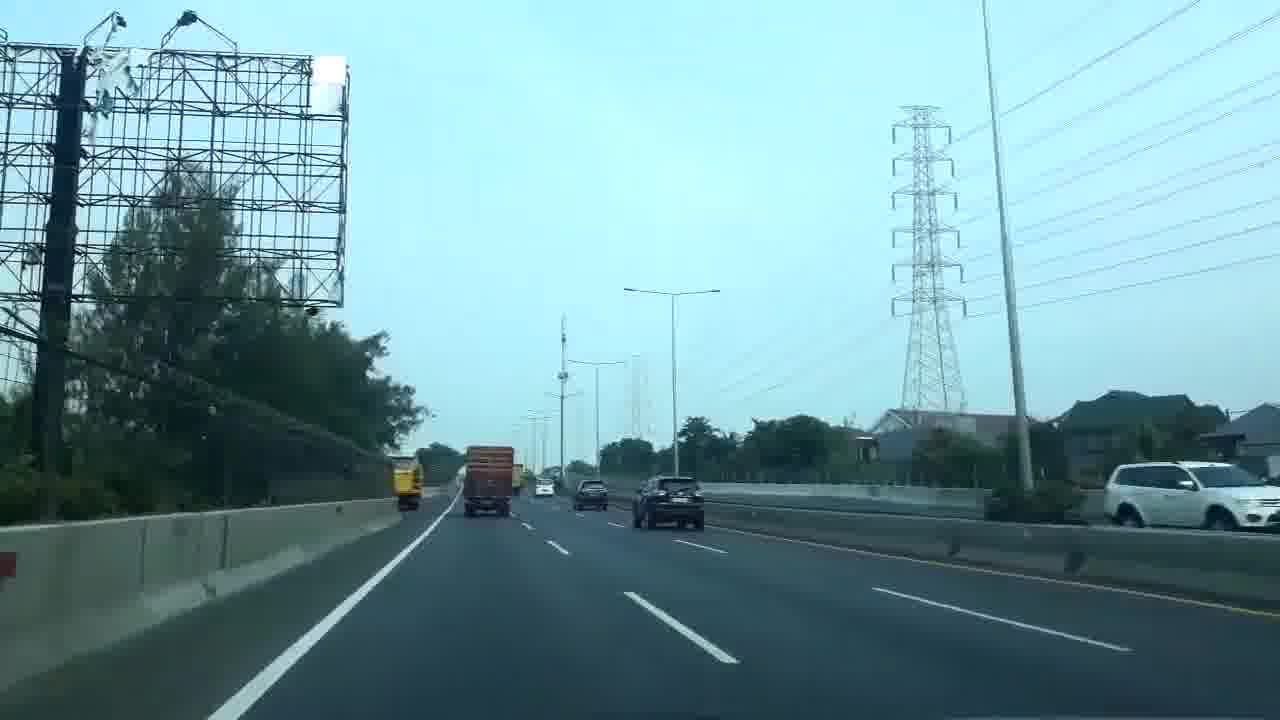plate_positive: (671, 497, 689, 503)
